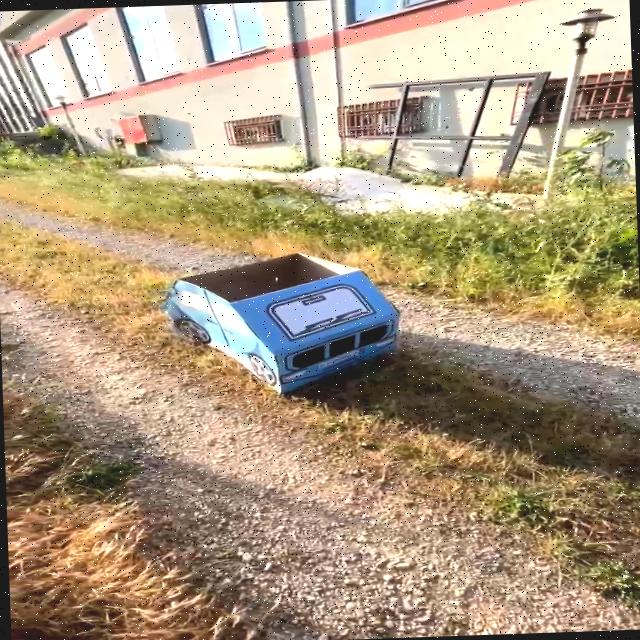blue_car: (109, 215, 490, 411)
